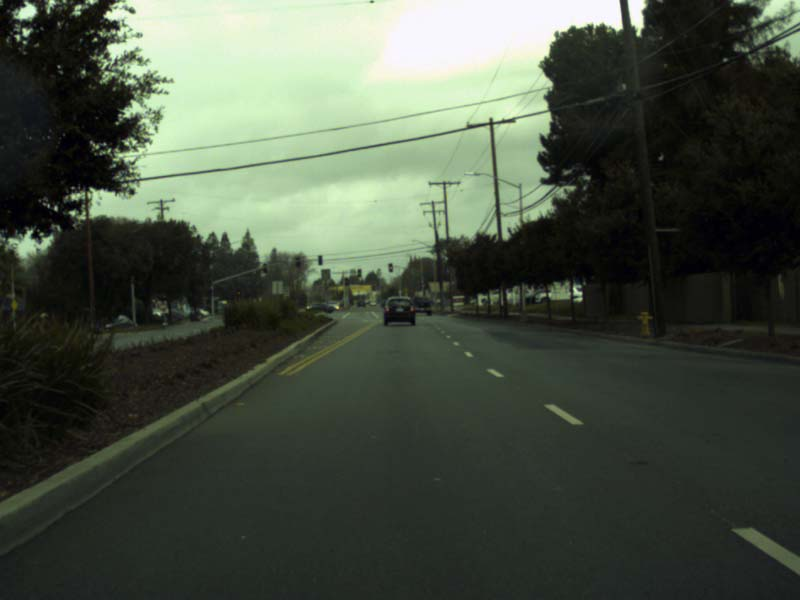Yellow: (421, 283, 427, 294), (388, 263, 393, 272), (357, 268, 361, 277)
